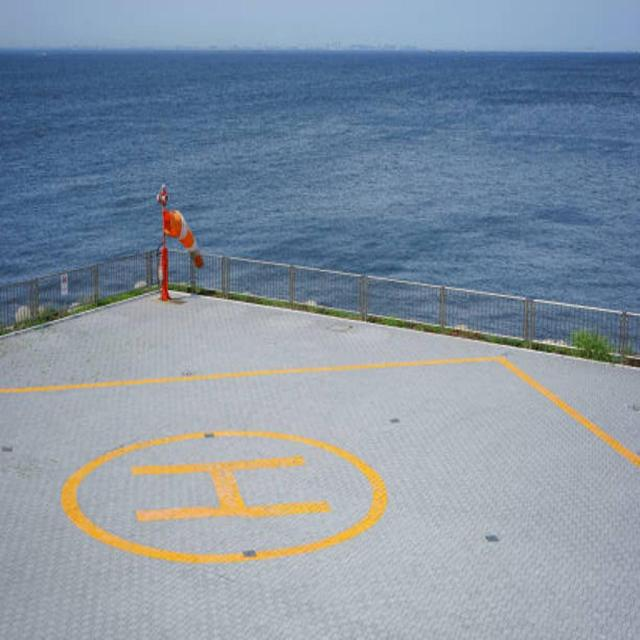helipad: (58, 429, 391, 563)
